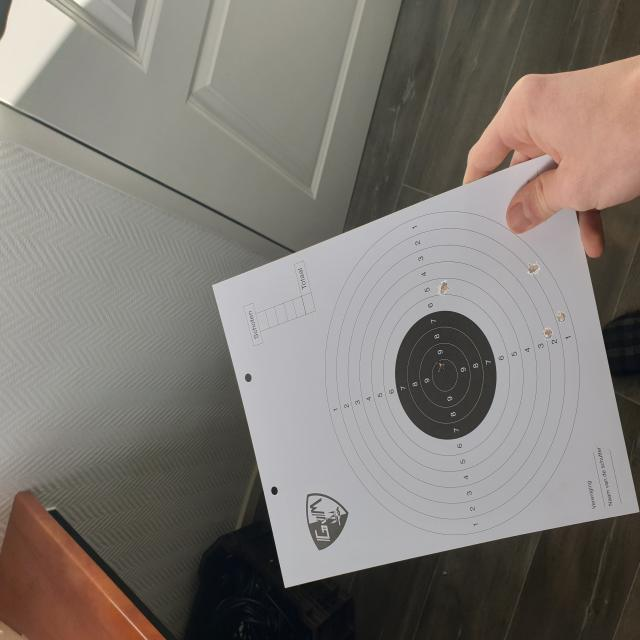1: (556, 310, 566, 324), (534, 263, 540, 274)
10: (435, 360, 445, 374)
2: (526, 262, 534, 276)
3: (542, 327, 553, 341)
5: (442, 280, 448, 291)
6: (436, 286, 446, 297)
Target: (322, 208, 581, 537)
black_contour: (394, 310, 496, 440)
